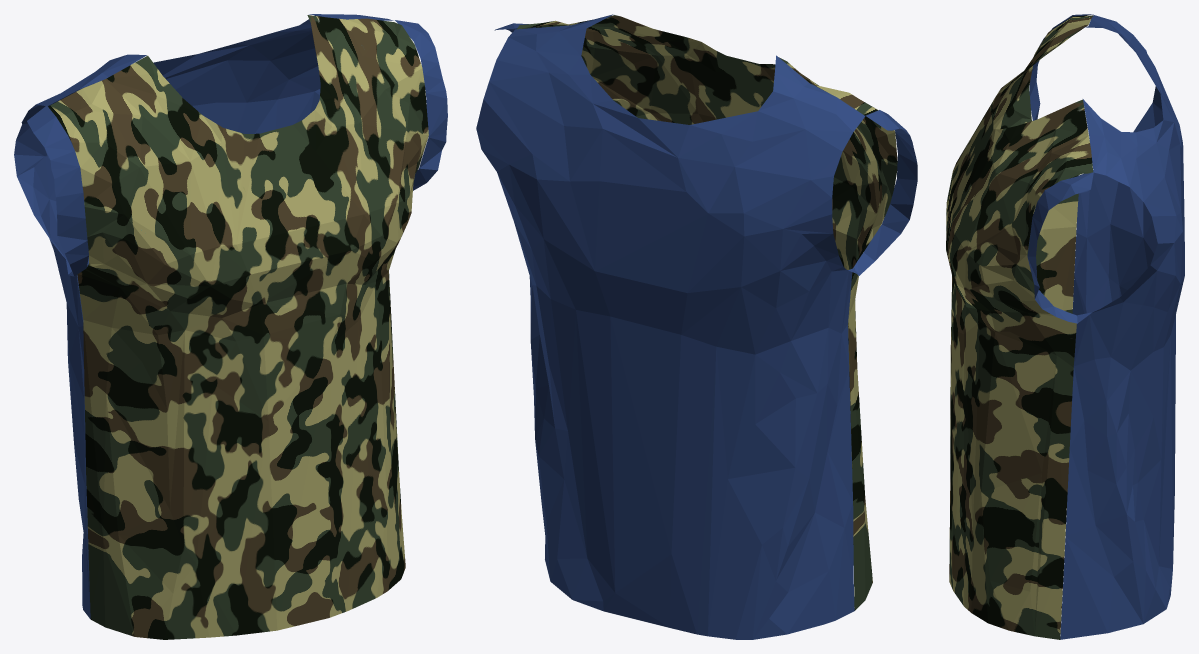
3 renders of one model, left to right at view 1: azimuth 30°, elevation 25°; view 2: azimuth 150°, elevation 25°; view 3: azimuth 270°, elevation 25°, orthographic. The views are drawn at different scales.
Parts seen in each view (by area): view 1: T_shirt.004; view 2: T_shirt.004; view 3: T_shirt.004.
Boxes of the visible parts, bbox=[...] form: T_shirt.004: bbox=[14, 14, 447, 639]; T_shirt.004: bbox=[476, 14, 917, 639]; T_shirt.004: bbox=[946, 14, 1184, 639].
Bounding box in the file's own units: 0.2935 × 0.3892 × 0.1639.
2 materials, 1 textured.
